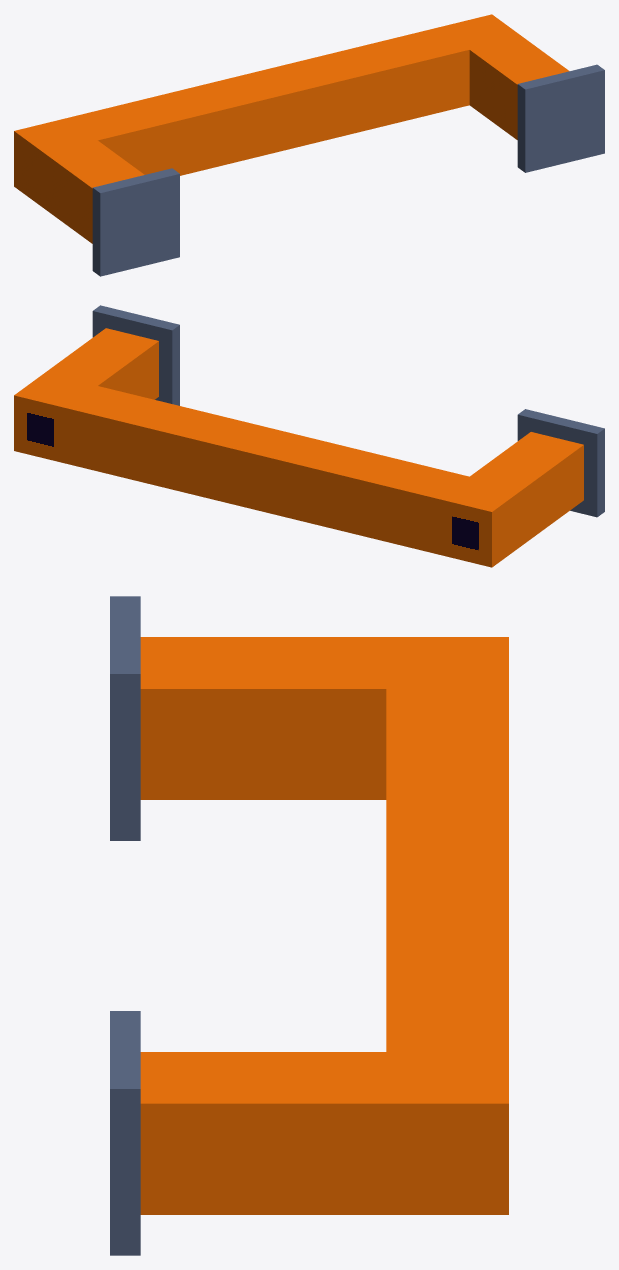
File: HANDLE_v01.obj
3 renders of one model, top to bottom at view 1: azimuth 30°, elevation 25°; view 2: azimuth 150°, elevation 25°; view 3: azimuth 270°, elevation 25°, orthographic. The views are drawn at different scales.
Visible parts, largest first — view 1: handle; view 2: handle; view 3: handle.
Part boxes in pixels (bbox=[...]): handle: bbox=[14, 14, 604, 276]; handle: bbox=[14, 305, 604, 567]; handle: bbox=[110, 596, 508, 1255].
Bounding box in the file's own units: 2.38 × 0.375 × 0.8125.
